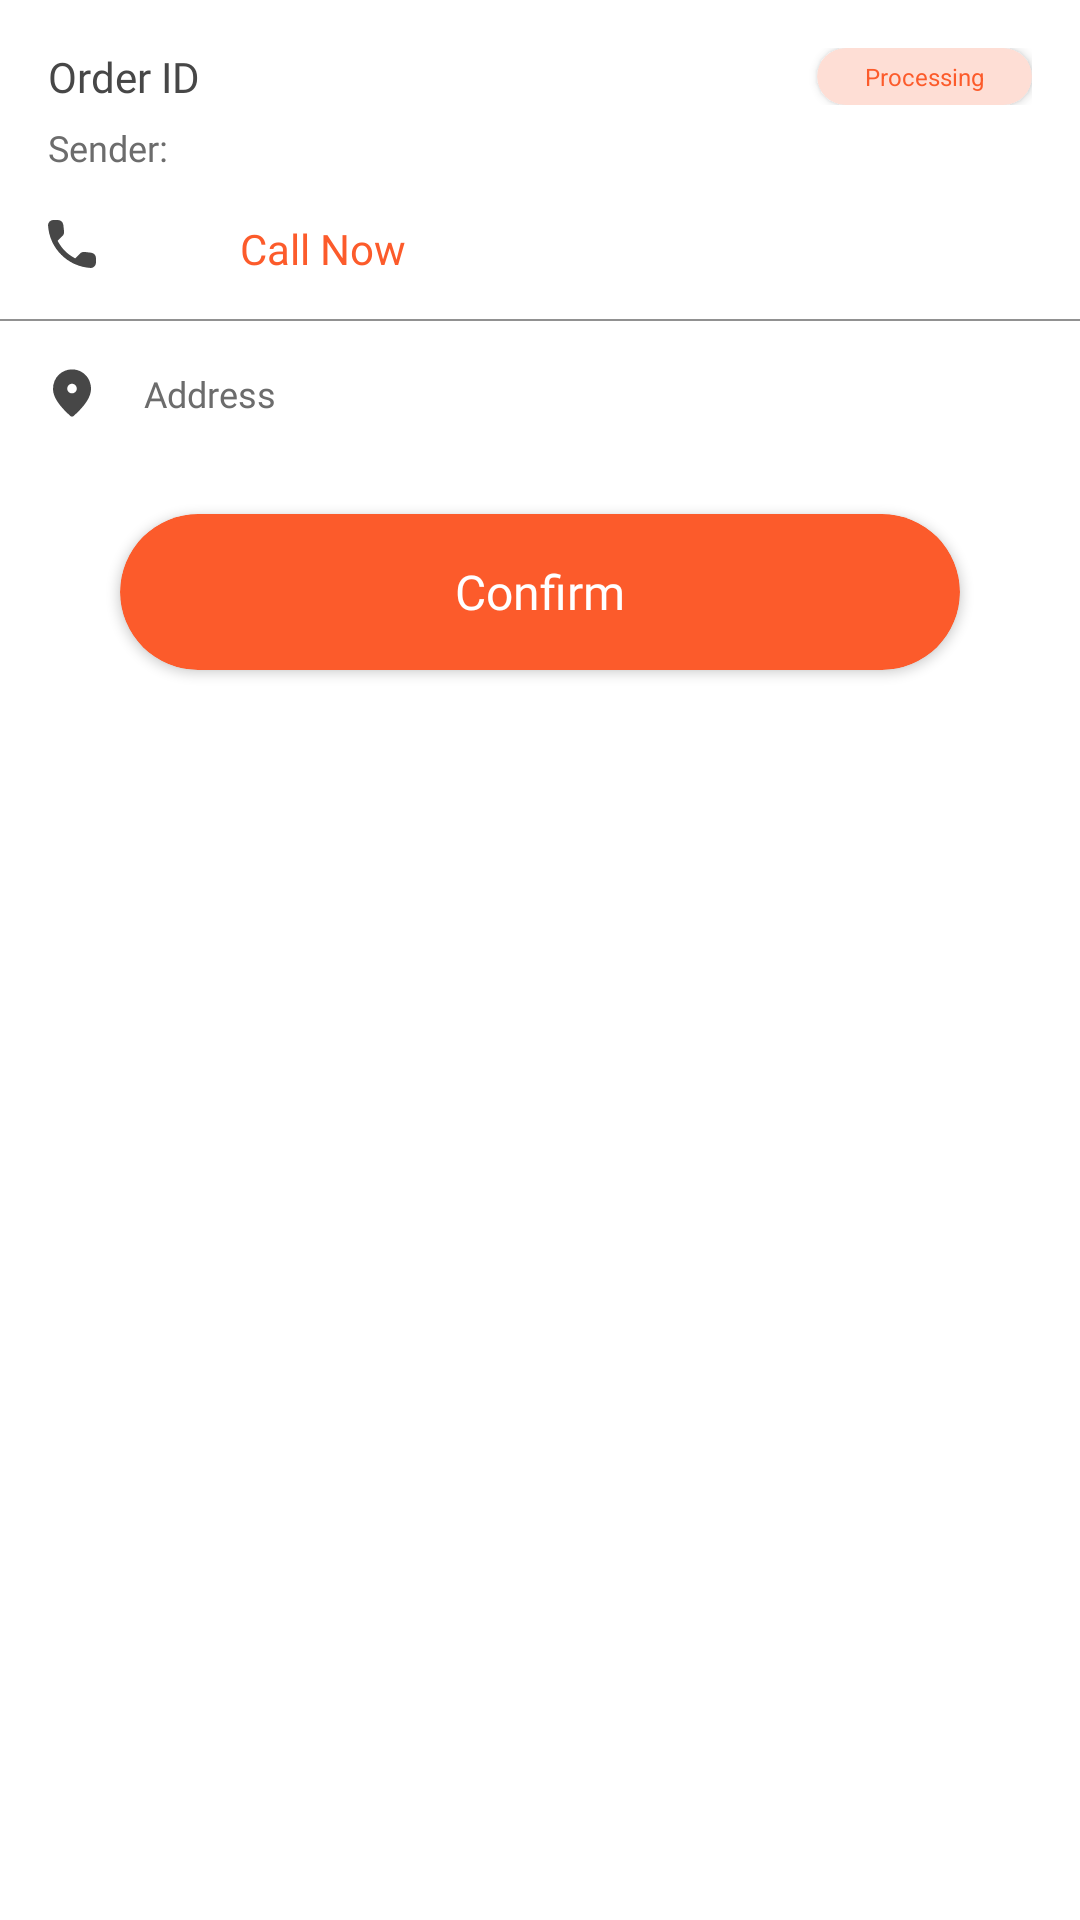

Point at icon controls on the screen. Image size 1080px x 1920px, points as [x,y].
location: [72,393]
phone: [72,244]
